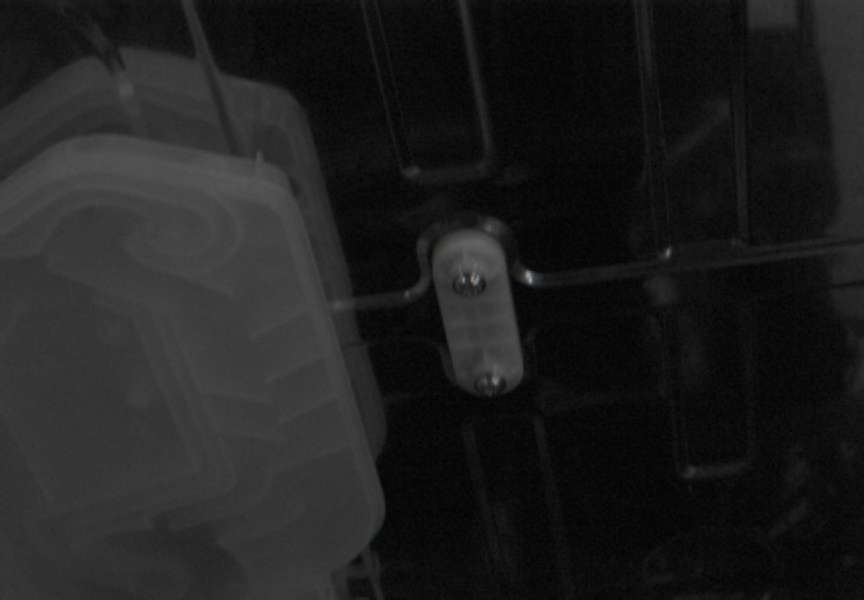screw: (452, 271, 486, 297), (474, 373, 507, 398)
